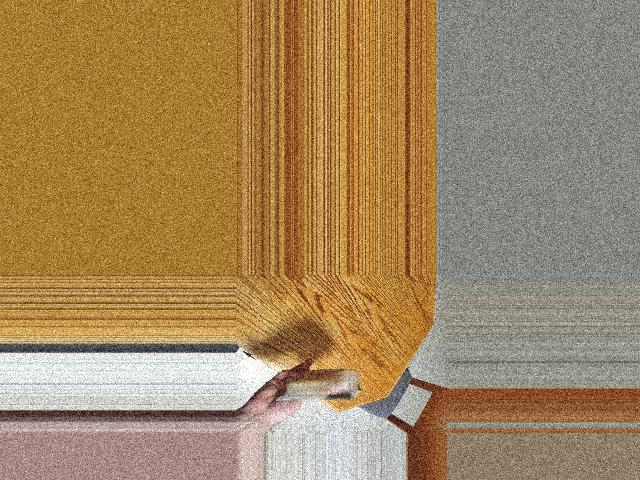cheese: (281, 366, 354, 416)
